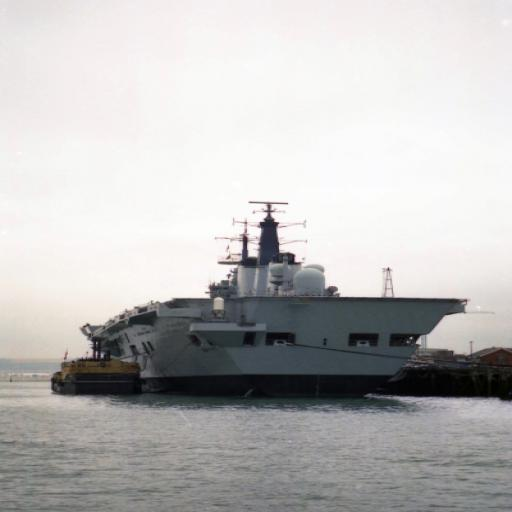Portanaves: (80, 180, 472, 402)
